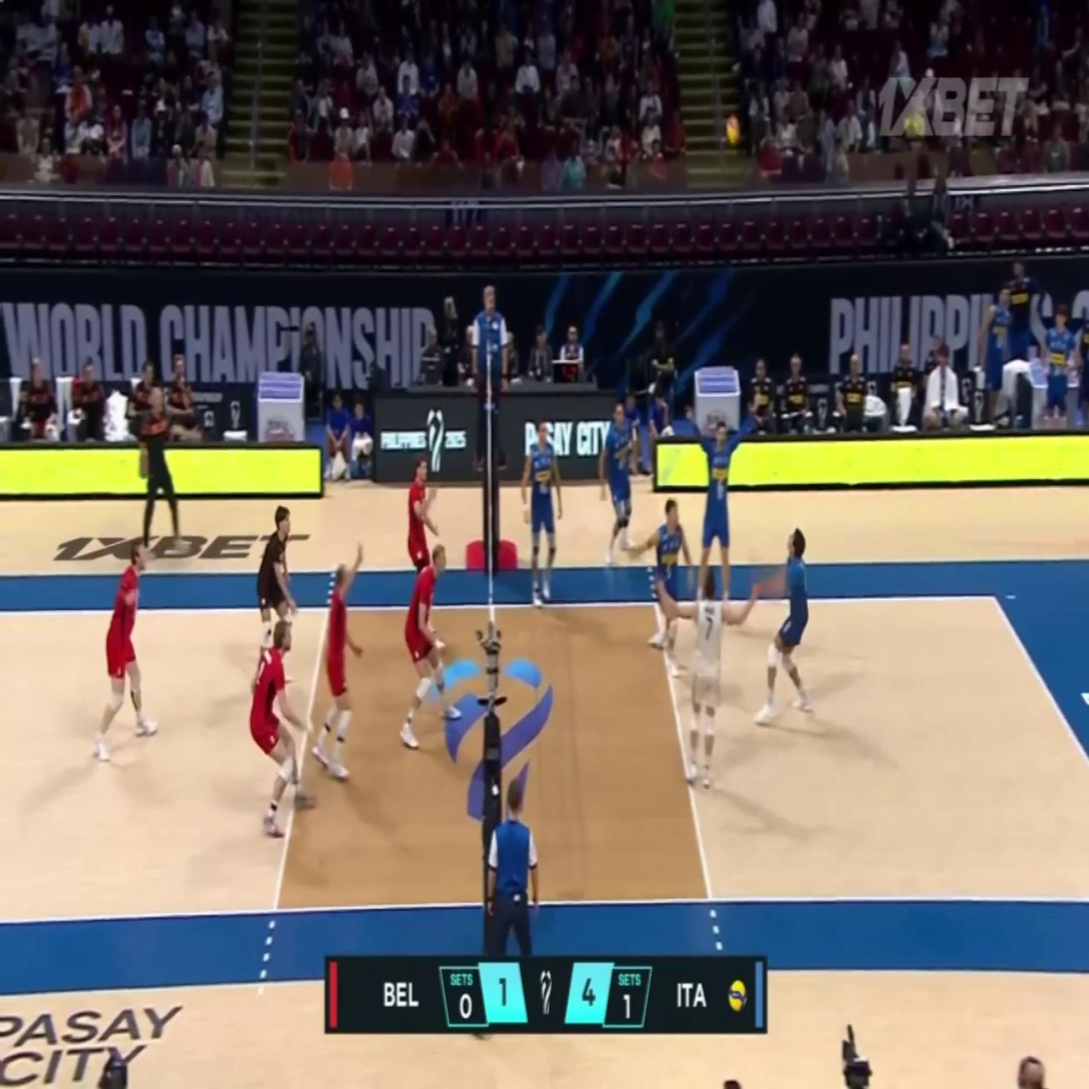ball: (725, 117, 739, 145)
